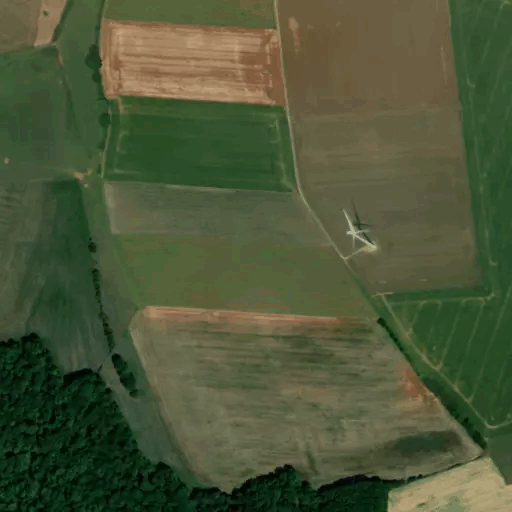wt: (338, 195, 380, 255)
